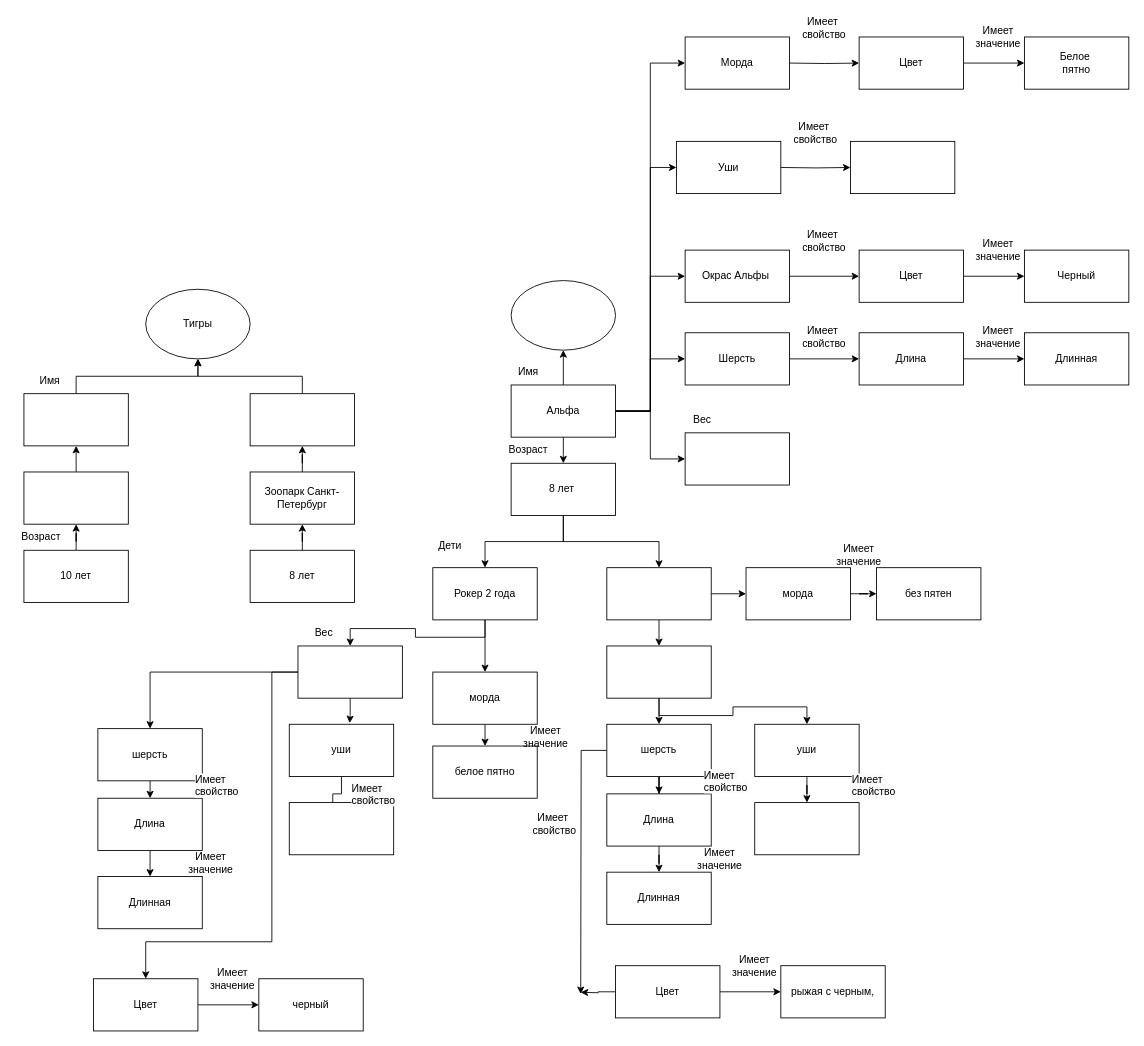
The diagram is 1144 pixels wide and 1046 high, and some of its shapes have lost their labels. Here are the shapes that lost their labels. From the top down, the centre of each, then its label:
At (x=902, y=167): "Стоять".
At (x=563, y=315): "Собаки".
At (x=75, y=419): "Ромашка".
At (x=302, y=419): "Бунтарь".
At (x=737, y=458): "8 кг".
At (x=75, y=497): "Казанский зоопарк".
At (x=658, y=593): "Малыш 1 год".
At (x=349, y=671): "5 кг".
At (x=658, y=671): "3,5 кг".
At (x=341, y=828): "висячие".
At (x=806, y=828): "Стоячие".
